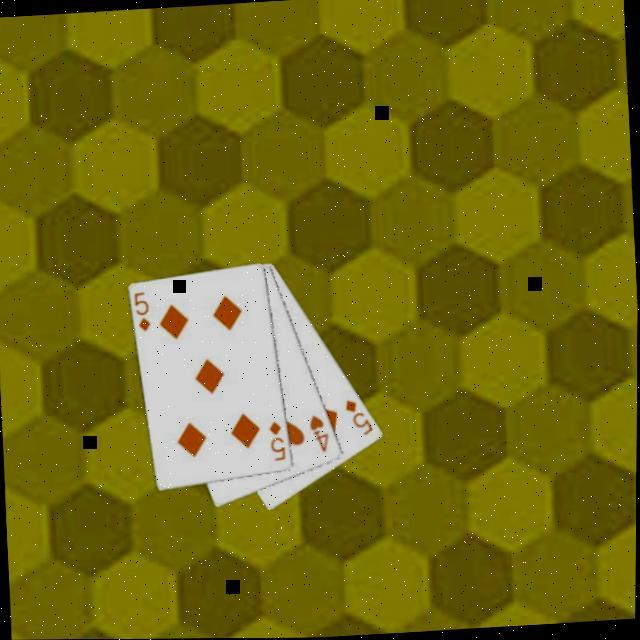4H: (306, 414, 333, 457)
5D: (341, 397, 375, 441), (265, 419, 289, 466), (130, 289, 154, 336)
